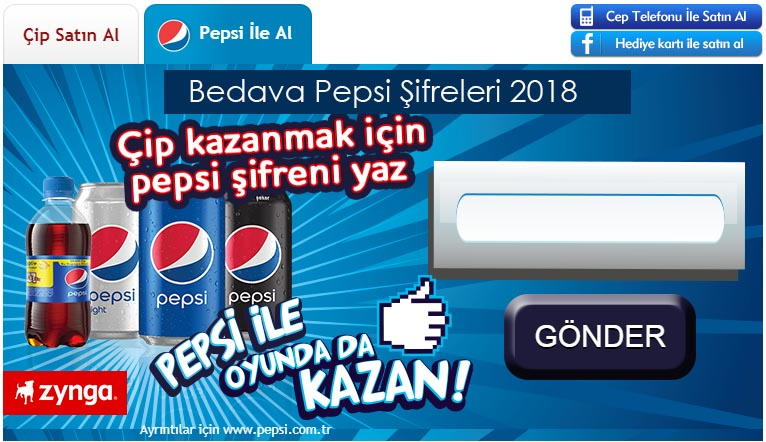pepsi: (149, 220, 212, 283), (149, 220, 207, 283), (223, 223, 279, 283), (85, 223, 138, 281), (157, 16, 189, 50), (63, 266, 85, 289), (63, 266, 86, 287), (63, 267, 86, 288)
